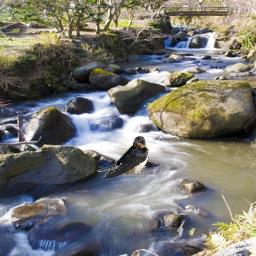Swallow: (96, 136, 149, 178)
